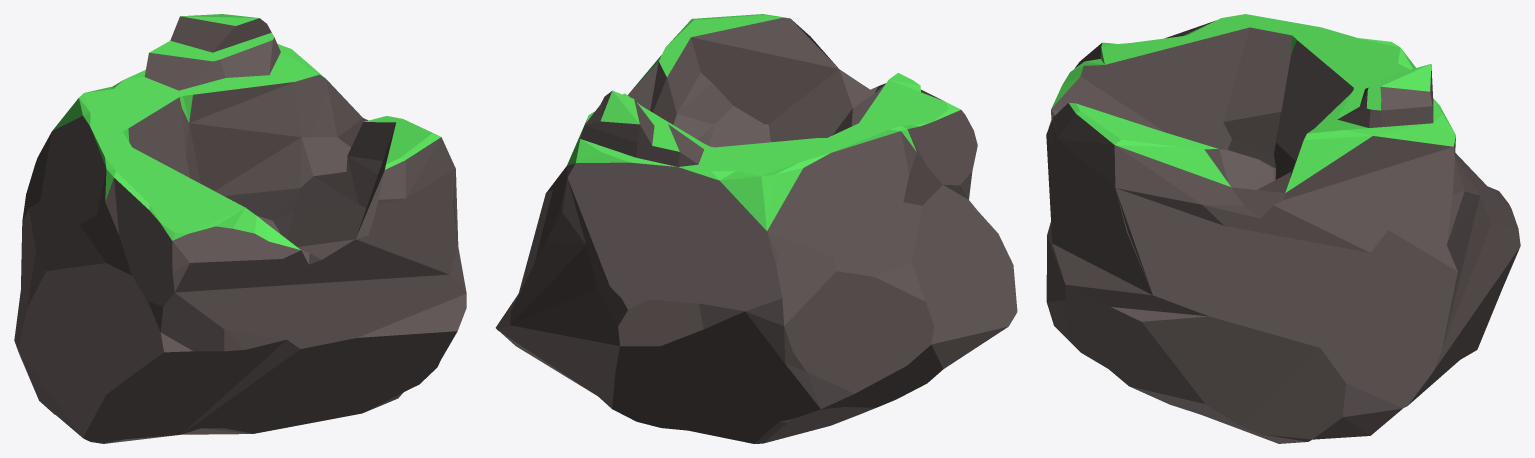
File: floating_stone 5.fbx
3 renders of one model, left to right at view 1: azimuth 30°, elevation 25°; view 2: azimuth 150°, elevation 25°; view 3: azimuth 270°, elevation 25°, orthographic. The views are drawn at different scales.
Visible parts, largest first — view 1: Cube.028; view 2: Cube.028; view 3: Cube.028.
Boxes of the visible parts, x1,y1,x2,y2 form: Cube.028: (14, 14, 466, 443); Cube.028: (495, 14, 1017, 443); Cube.028: (1046, 14, 1520, 443).
Size of the model in its own units: 2173 by 1726 by 2149.
